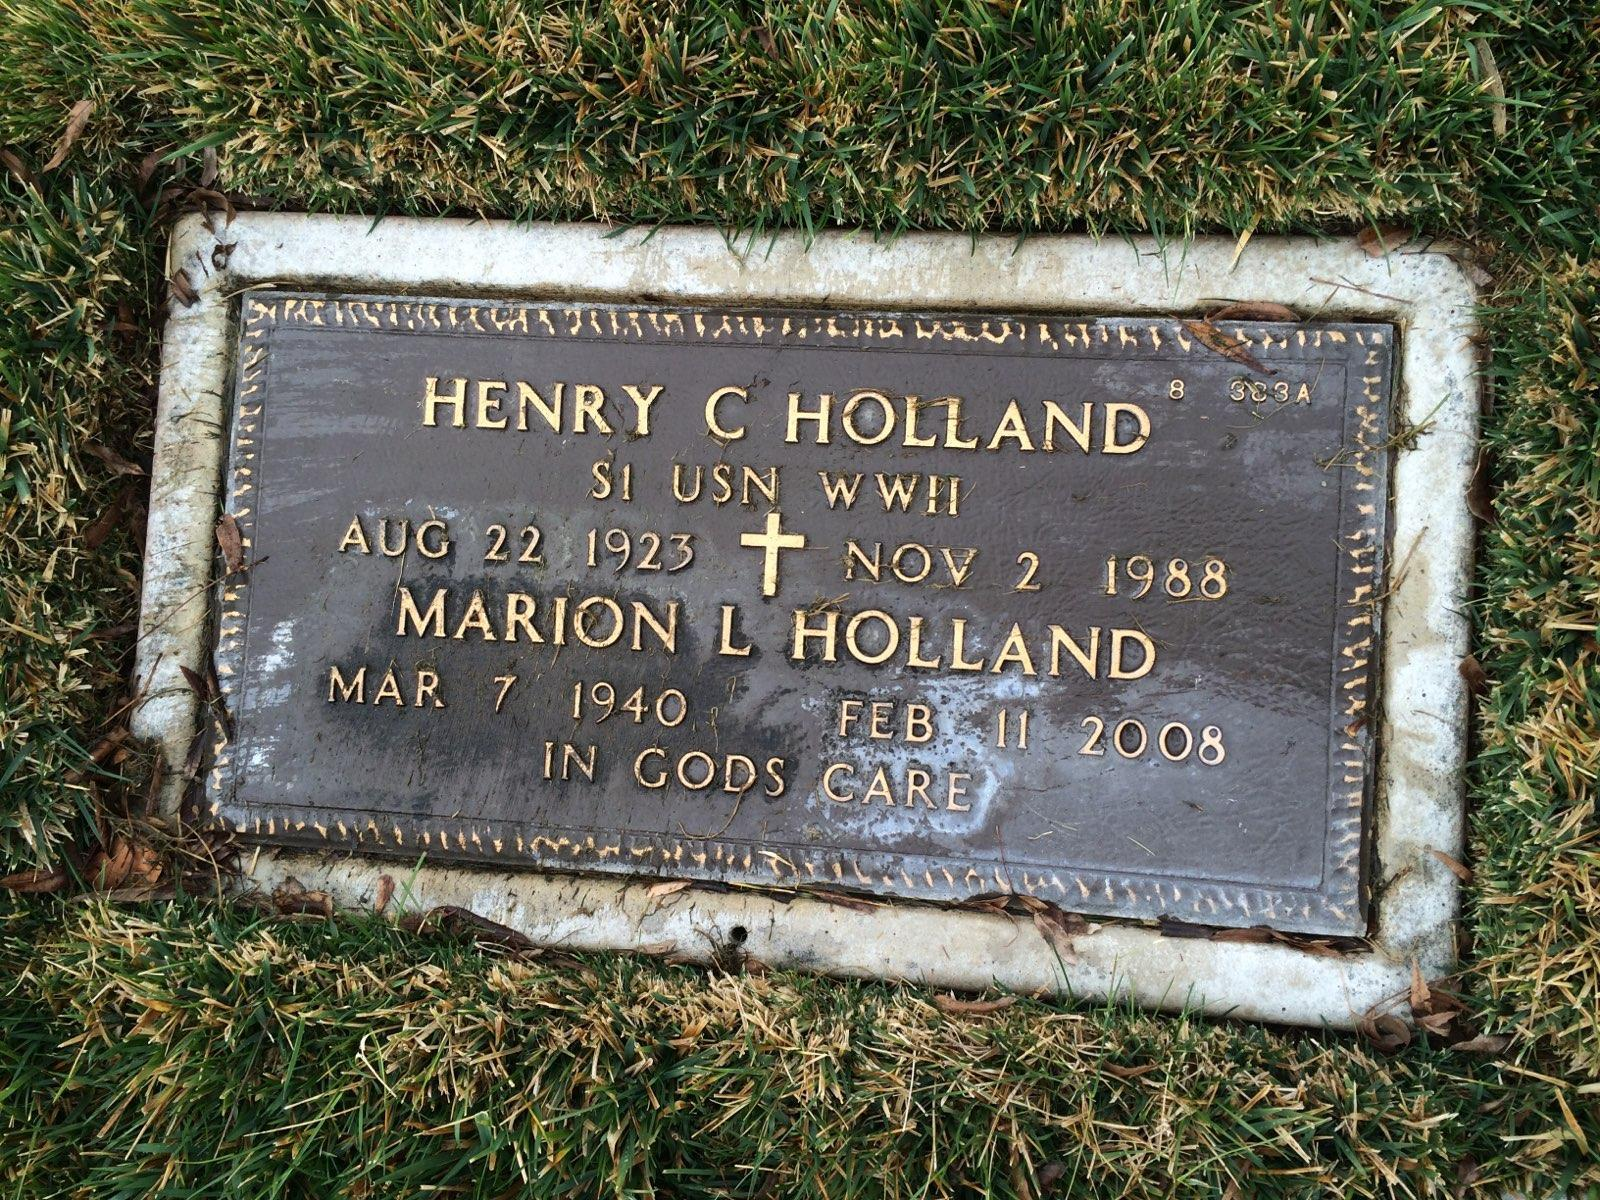flat: (60, 176, 1521, 1095)
